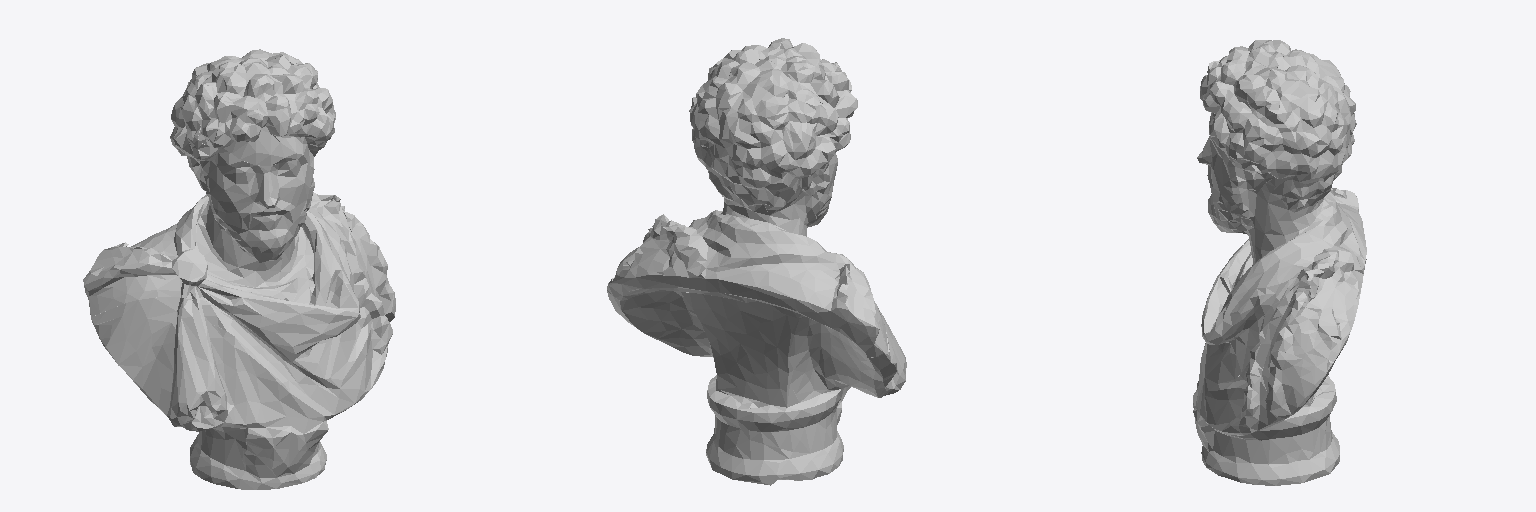
File: MARCUS_FINAL_LOW.obj
3 views of the same model, side by side, from view 1: azimuth 30°, elevation 25°; view 2: azimuth 150°, elevation 25°; view 3: azimuth 270°, elevation 25° (orthographic).
Visible parts, largest first — view 1: MARCUS_LP; view 2: MARCUS_LP; view 3: MARCUS_LP.
Boxes of the visible parts, x1,y1,x2,y2 form: MARCUS_LP: [83, 49, 395, 489]; MARCUS_LP: [607, 38, 906, 485]; MARCUS_LP: [1193, 40, 1366, 485].
Bounding box in the file's own units: 6.01 × 8.24 × 3.21.